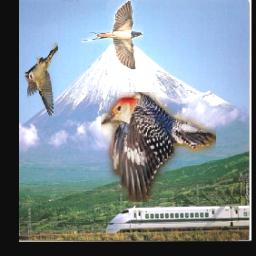Sparrow: (25, 43, 59, 118)
Swallow: (80, 1, 143, 70)
Woodpecker: (102, 92, 217, 202)
